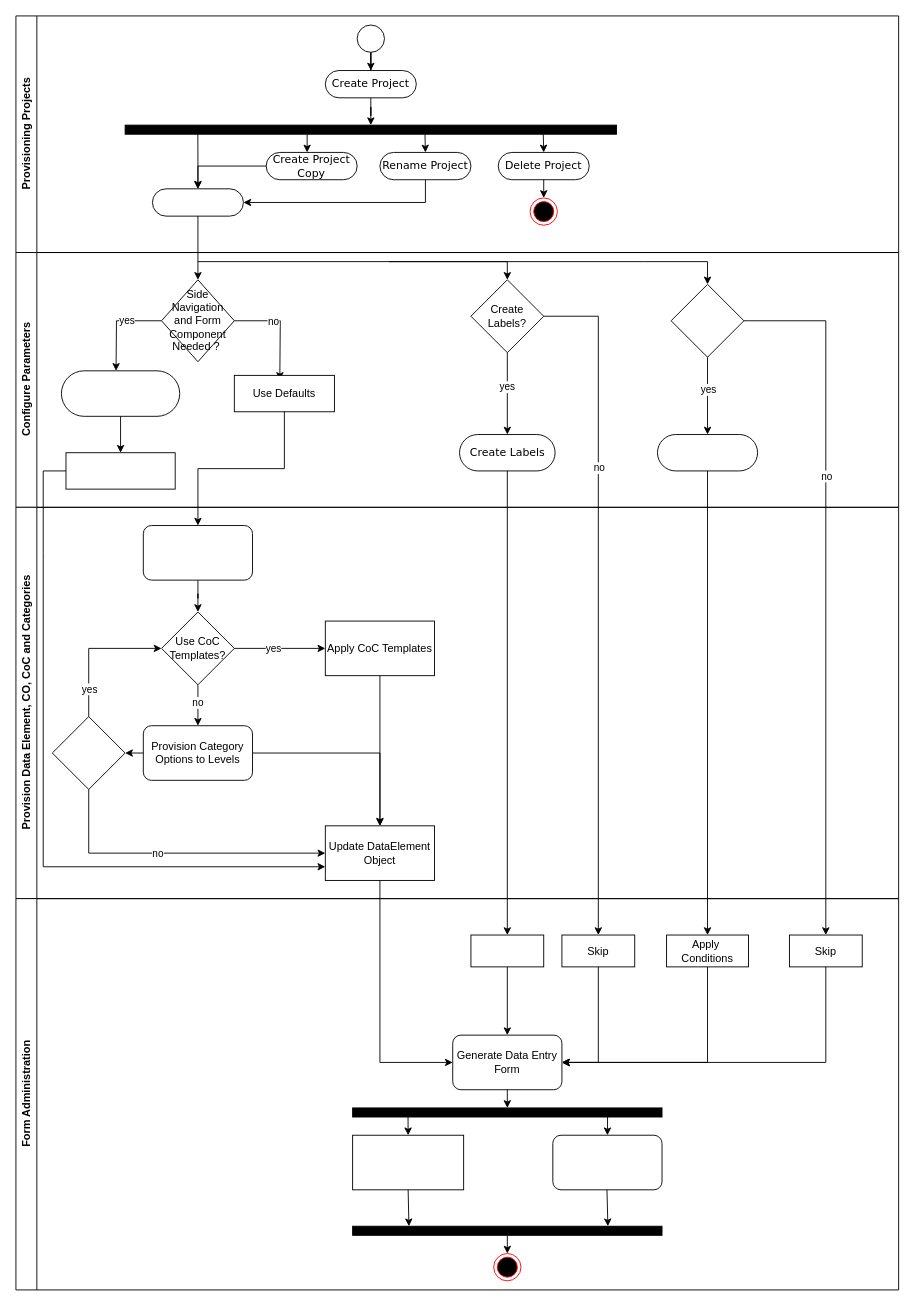
Some shapes in this 915 by 1306 pixel diagram are drawn without their labels. Here are the shapes that lost their labels. From the top down, the centre of each, then its label:
[197,202]: Edit
[707,320]: Create Conditions?
[120,393]: Create Side Navigations and Form Components
[120,470]: Apply Side Navigation and Form Component
[707,452]: Create Conditions
[197,552]: Add Data Elements
[88,752]: Create CoC Template?
[507,950]: Apply Labels
[408,1162]: Post Data Entry Form to DHIS2
[607,1162]: Download DataEntry Form
